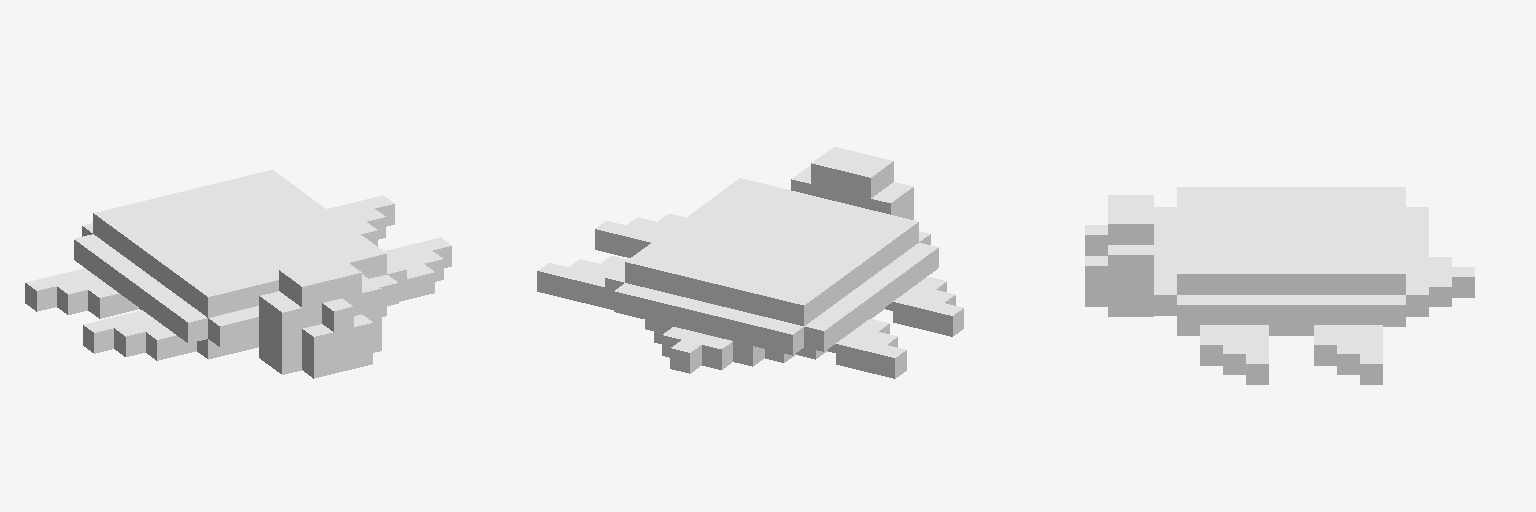
File: Tank02.obj
3 views of the same model, side by side, from view 1: azimuth 30°, elevation 25°; view 2: azimuth 150°, elevation 25°; view 3: azimuth 270°, elevation 25° (orthographic).
Parts seen in each view (by area): view 1: object 1; view 2: object 1; view 3: object 1.
Boxes of the visible parts, <box> form: object 1: <box>25,170,451,378</box>; object 1: <box>537,147,963,378</box>; object 1: <box>1085,187,1474,384</box>.
Bounding box in the file's own units: 1.8 × 0.4 × 1.7.